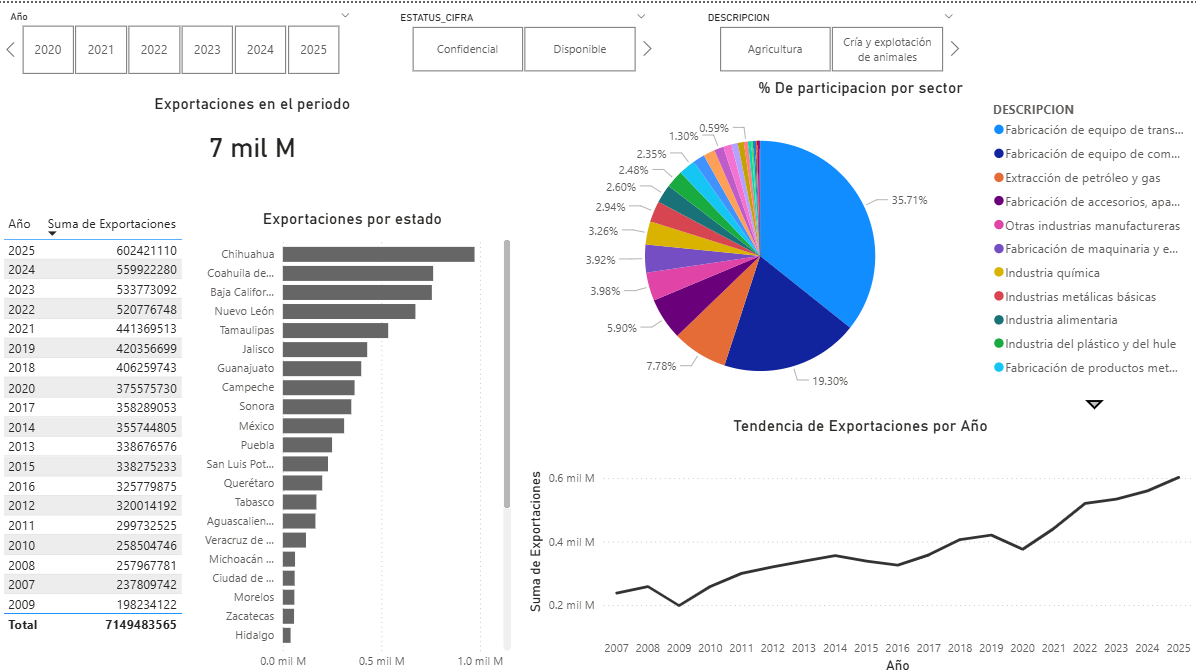

The dashboard page shown, as its layout file describes it:
{"tool":"powerbi","page":{"name":"Página 1","canvas":[1280,720],"ordinal":0},"visuals":[{"type":"slicer","fields":{"Values":["eef_consolidado_final.ANIO"]},"box":[0,0,387.8,80],"z":0},{"type":"slicer","fields":{"Values":["eef_consolidado_final.ESTATUS_CIFRA"]},"box":[415.6,4.4,287.8,75.6],"z":1000},{"type":"tableEx","fields":{"Values":["eef_consolidado_final.ANIO","Sum(eef_consolidado_final.VAL_USD)"]},"box":[0,218.6,180,501.4],"z":2000},{"type":"clusteredBarChart","title":"Exportaciones por estado","fields":{"Category":["eef_consolidado_final.NOM_ENTIDAD"],"Y":["Sum(eef_consolidado_final.VAL_USD)"]},"box":[180,220,372.9,500],"z":3000},{"type":"pieChart","fields":{"Category":["eef_consolidado_final.DESCRIPCION"],"Y":["Sum(eef_consolidado_final.VAL_USD)"]},"box":[560,80,585.7,360],"z":4000},{"type":"slicer","fields":{"Values":["eef_consolidado_final.DESCRIPCION"]},"box":[743.3,4.4,287.8,75.6],"z":5000},{"type":"card","title":"Exportaciones en el periodo","fields":{"Values":["Sum(eef_consolidado_final.VAL_USD)"]},"box":[11.4,97.1,518.6,90],"z":5001},{"type":"lineChart","fields":{"Category":["eef_consolidado_final.ANIO"],"Y":["Sum(eef_consolidado_final.VAL_USD)"]},"box":[560,440,720,280],"z":5002}]}

Visuals, with their boxes in screenshot pixels (x1, y1, x2, y2), scaled from the page's 1280x720 canvas onto the 1196x672 screenshot:
slicer - eef_consolidado_final.ANIO: x1=0, y1=0, x2=362, y2=75
slicer - eef_consolidado_final.ESTATUS_CIFRA: x1=388, y1=4, x2=657, y2=75
tableEx - eef_consolidado_final.ANIO x Sum(eef_consolidado_final.VAL_USD): x1=0, y1=204, x2=168, y2=671
"Exportaciones por estado" clusteredBarChart: x1=168, y1=205, x2=517, y2=671
pieChart - eef_consolidado_final.DESCRIPCION x Sum(eef_consolidado_final.VAL_USD): x1=523, y1=75, x2=1071, y2=411
slicer - eef_consolidado_final.DESCRIPCION: x1=695, y1=4, x2=963, y2=75
"Exportaciones en el periodo" card: x1=11, y1=91, x2=495, y2=175
lineChart - eef_consolidado_final.ANIO x Sum(eef_consolidado_final.VAL_USD): x1=523, y1=411, x2=1195, y2=671
